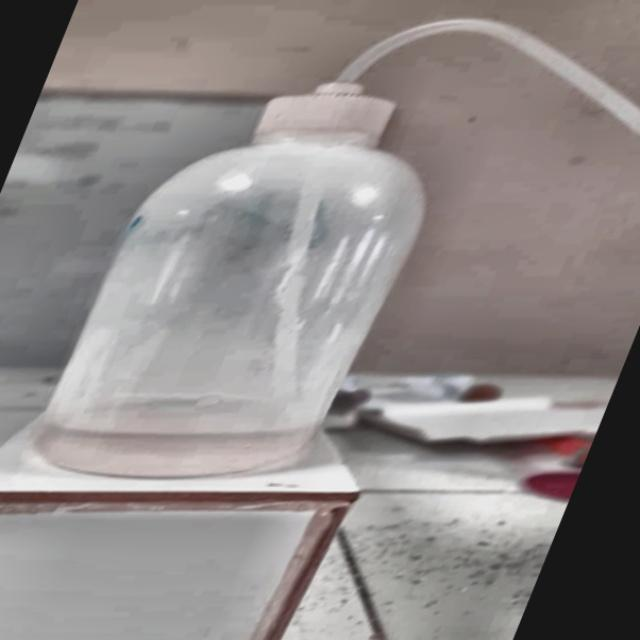Washing Bottle: (2, 2, 640, 476)
